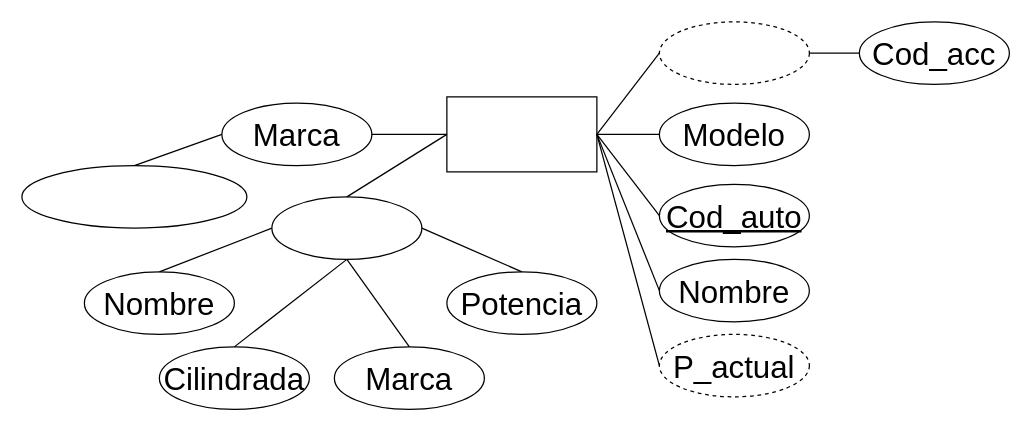
The diagram is 1031 pixels wide and 431 high, and some of its shapes have lost their labels. The shapes that lost their labels are listed below. From the top down, each one's box as (x1, y1, x2, y2) in pixels, then its label:
(658, 21, 809, 84): Accesorio
(446, 96, 597, 172): Auto
(21, 164, 247, 228): Nacionalidad
(271, 196, 422, 259): Motor
